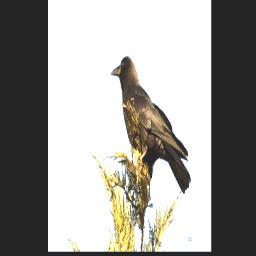Crow: (109, 51, 192, 200)
